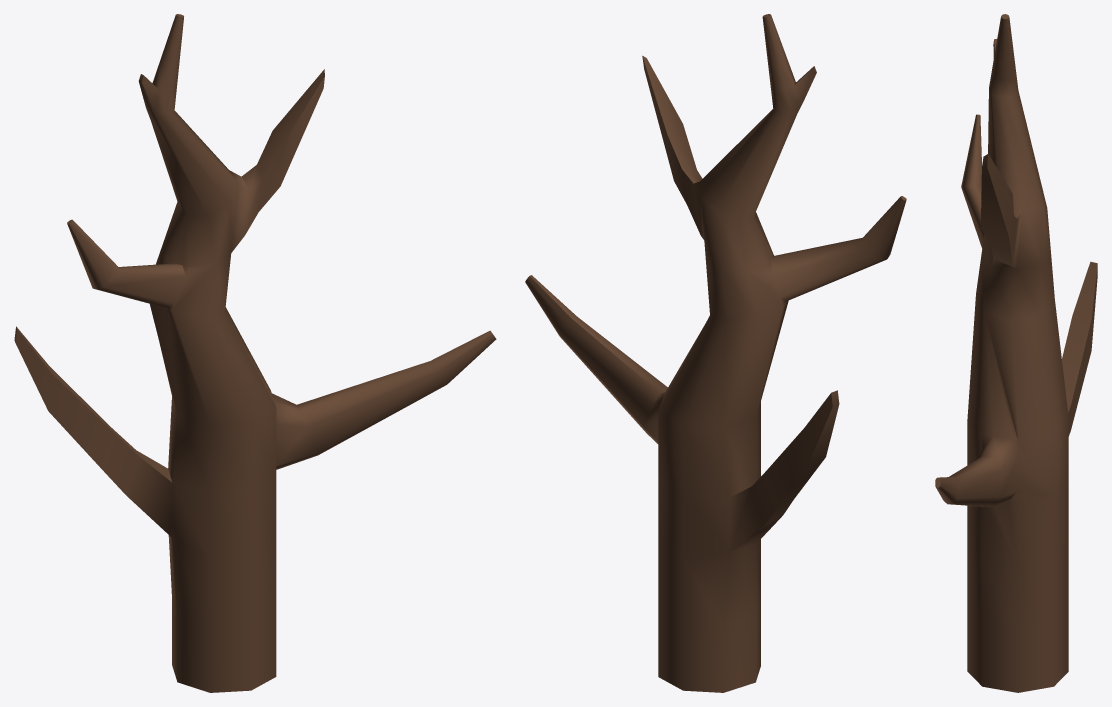
File: toter_baum.obj
3 views of the same model, side by side, from view 1: azimuth 30°, elevation 25°; view 2: azimuth 150°, elevation 25°; view 3: azimuth 270°, elevation 25° (orthographic). The views are drawn at different scales.
Parts seen in each view (by area): view 1: Zylinder.1; view 2: Zylinder.1; view 3: Zylinder.1.
Boxes of the visible parts, box(x1,y1,x2,y2) form: Zylinder.1: box(14, 14, 496, 692); Zylinder.1: box(525, 14, 906, 692); Zylinder.1: box(935, 14, 1097, 692).
Size of the model in its own units: 707 by 1118 by 260.
